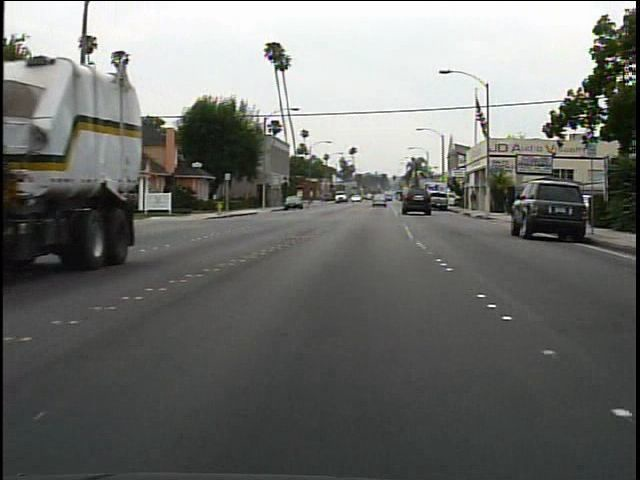person: (464, 187, 481, 216)
